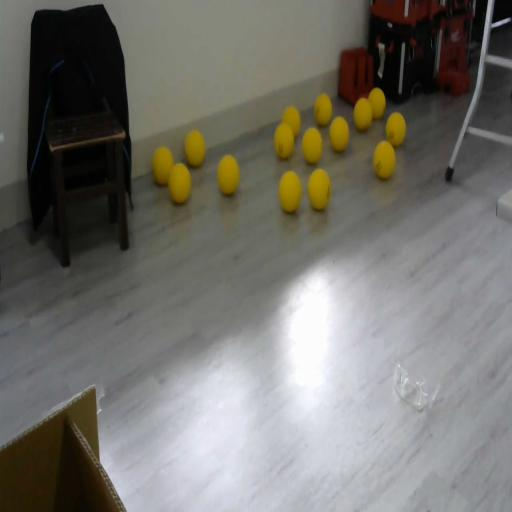FUEL: (278, 169, 302, 214), (307, 168, 331, 210), (168, 162, 191, 204), (217, 154, 240, 194), (373, 139, 396, 179), (184, 129, 206, 168), (152, 146, 174, 185), (302, 126, 323, 164), (385, 112, 406, 147), (329, 116, 349, 152), (353, 97, 373, 131), (282, 104, 301, 138), (314, 93, 332, 127), (368, 87, 386, 119)
